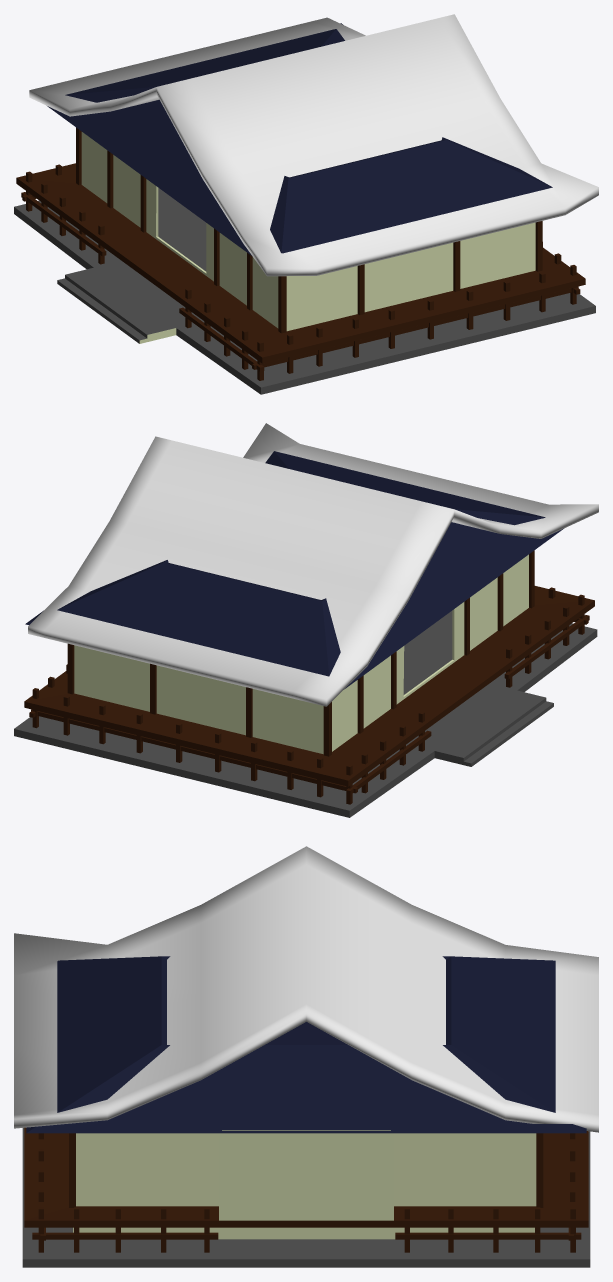
The model's file is EstructuraPrincipal.fbx.
3 renders of one model, top to bottom at view 1: azimuth 30°, elevation 25°; view 2: azimuth 150°, elevation 25°; view 3: azimuth 270°, elevation 25°, orthographic. The views are drawn at different scales.
Visible parts, largest first — view 1: Haiden, Techo; view 2: Haiden, Techo; view 3: Haiden, Techo.
Part boxes in pixels (x1,y1,x2,y2): Haiden: [14, 23, 595, 394]; Techo: [29, 14, 598, 276]; Haiden: [14, 451, 597, 817]; Techo: [28, 423, 598, 706]; Haiden: [22, 956, 590, 1267]; Techo: [14, 846, 598, 1132].
Size of the model in its own units: 2414 by 1313 by 2848.
